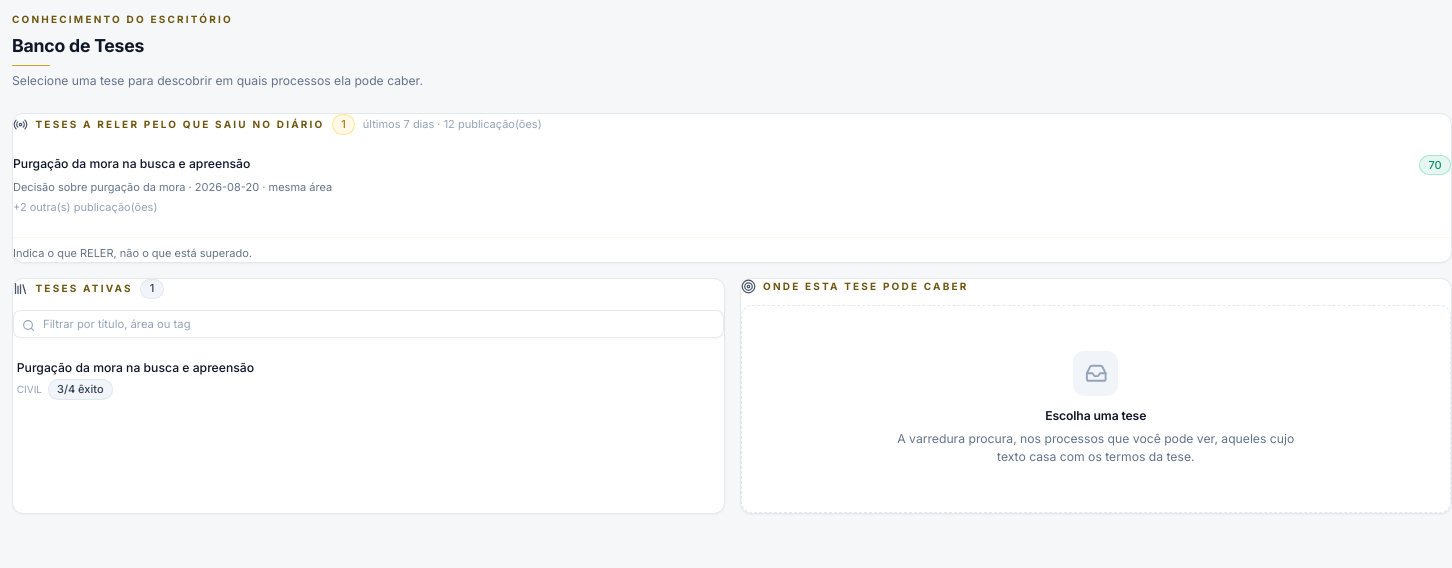
Test: Banco de Teses › explica o vazio quando nenhum processo casa a tese
Click the text "Purgação da mora na busca e apreensão" at point(135, 367), box [17,360,254,375]
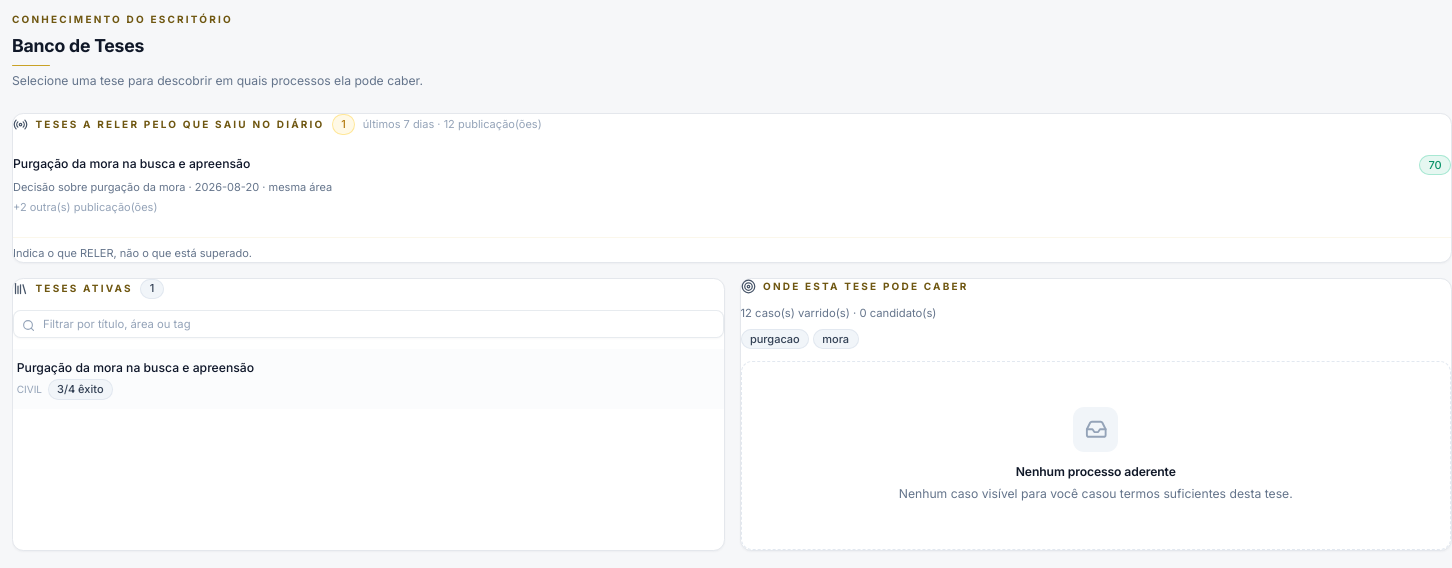
Expected: the heading "Nenhum processo aderente" is shown, [1016,463,1176,482]
